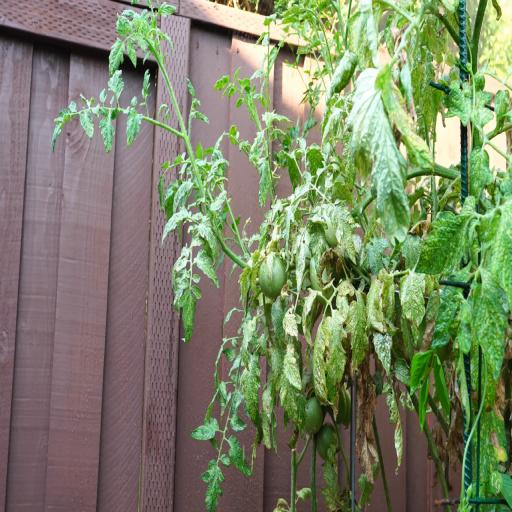Spider Mites: (374, 62, 435, 172), (471, 269, 509, 381), (415, 210, 470, 274), (488, 198, 512, 316), (324, 308, 347, 422), (345, 0, 379, 70), (326, 198, 357, 266), (344, 288, 368, 374), (430, 284, 460, 352), (279, 376, 309, 442), (324, 48, 358, 106), (400, 272, 426, 345), (312, 322, 334, 408), (240, 351, 262, 424), (237, 249, 260, 317), (199, 458, 225, 512), (439, 86, 473, 127), (179, 284, 202, 344), (160, 206, 190, 250), (322, 442, 340, 512), (302, 287, 322, 348), (386, 392, 402, 468), (357, 460, 381, 510), (470, 146, 490, 205), (418, 62, 435, 130), (198, 215, 218, 270), (195, 249, 221, 290), (320, 106, 343, 151), (228, 434, 252, 477), (378, 266, 395, 326), (341, 130, 357, 192), (308, 222, 327, 274), (283, 344, 303, 392), (372, 330, 392, 376), (366, 236, 389, 276), (282, 204, 295, 274), (268, 338, 284, 394), (242, 314, 256, 374), (400, 233, 422, 270), (189, 416, 219, 442), (270, 296, 285, 348), (108, 36, 126, 78), (173, 268, 190, 312), (126, 106, 143, 148), (98, 117, 116, 155), (294, 238, 306, 294), (476, 90, 494, 126), (261, 382, 276, 425), (494, 88, 510, 126), (384, 14, 397, 58), (283, 307, 299, 341), (249, 130, 264, 164), (259, 158, 269, 208), (108, 69, 124, 100), (80, 108, 94, 141), (156, 0, 176, 19), (230, 413, 248, 432), (126, 38, 137, 68), (222, 346, 236, 363), (219, 380, 227, 400)
